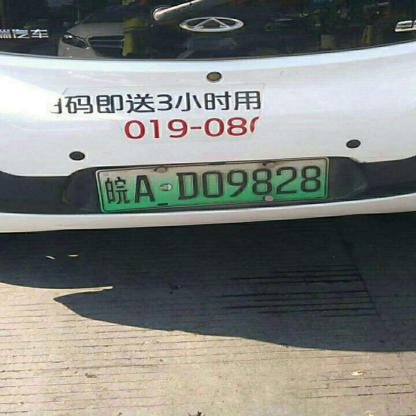lp: (98, 158, 324, 211)
